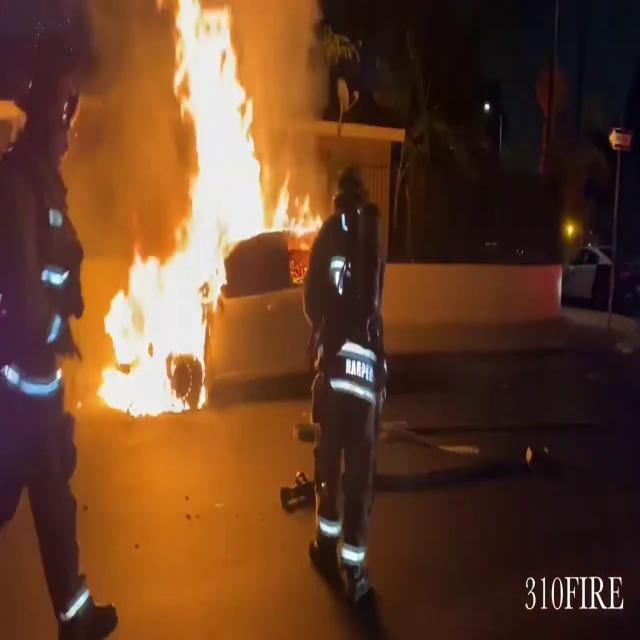Fire: (90, 0, 306, 424)
